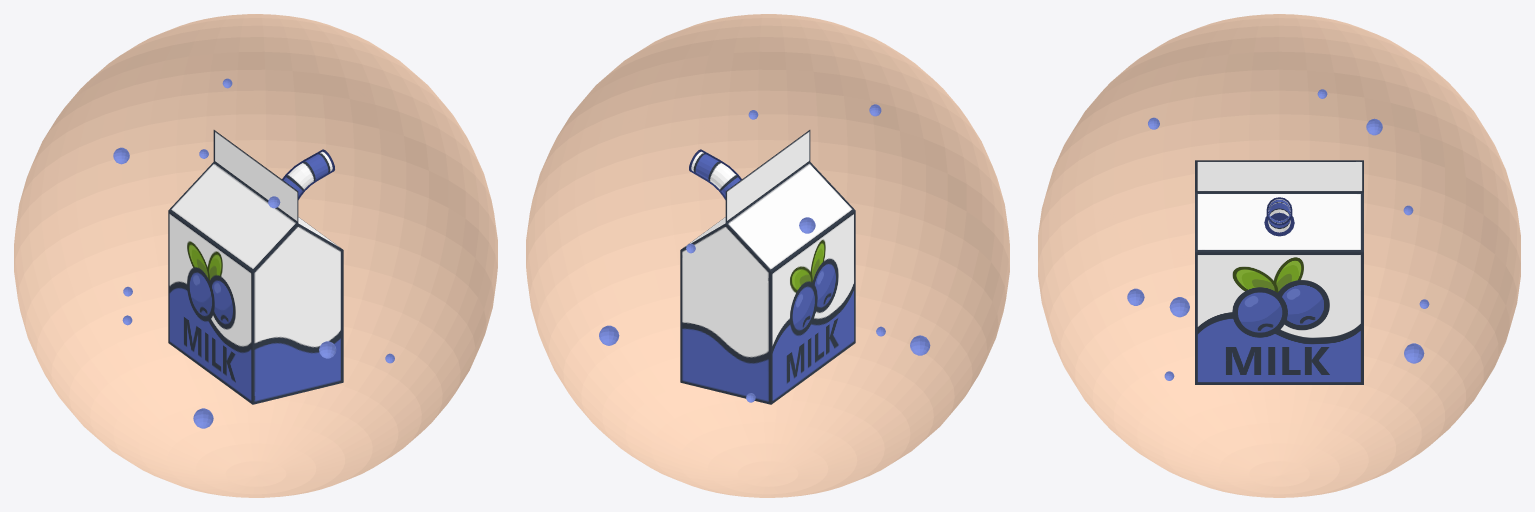
The model's file is blueberrymilk.glb.
3 views of the same model, side by side, from view 1: azimuth 30°, elevation 25°; view 2: azimuth 150°, elevation 25°; view 3: azimuth 270°, elevation 25° (orthographic).
Visible parts, largest first — view 1: Object_2; view 2: Object_2; view 3: Object_2.
Part boxes in pixels (bbox=[...]): Object_2: bbox=[14, 14, 497, 497]; Object_2: bbox=[526, 14, 1009, 497]; Object_2: bbox=[1038, 14, 1520, 497].
Bounding box in the file's own units: 1.5 × 1.5 × 1.49.
1 material, 1 textured.
